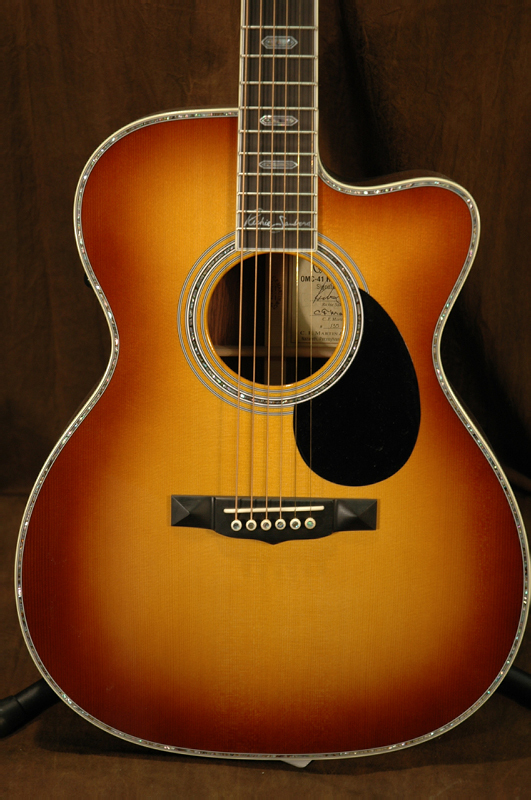guitar: (13, 3, 531, 768)
